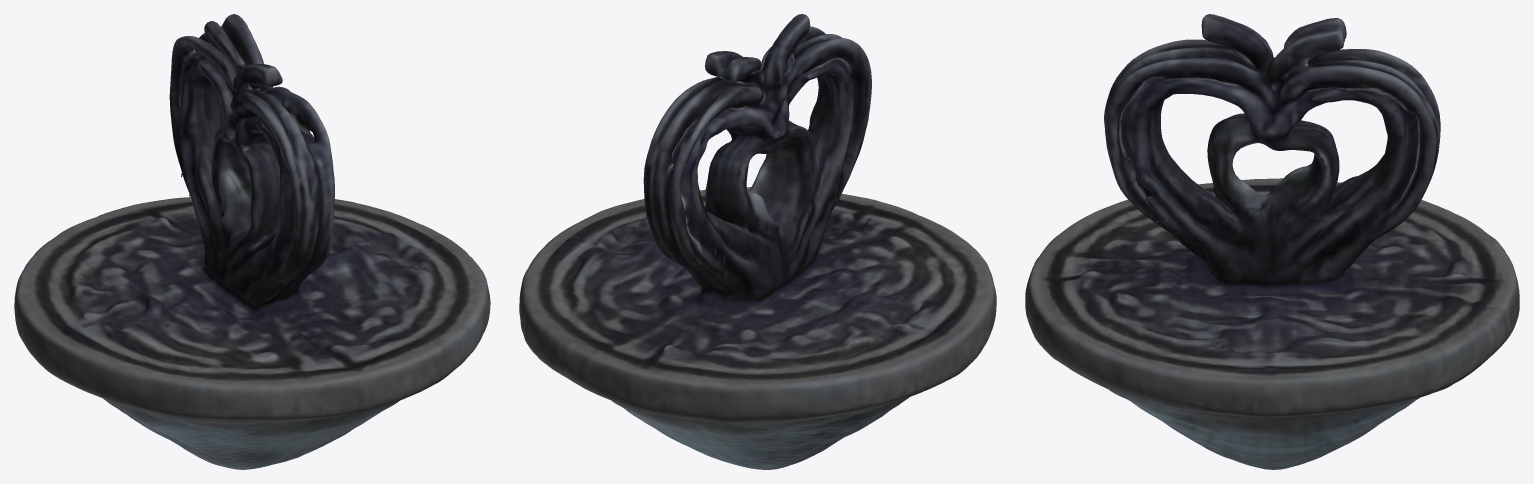
Rendered from heartofmaze.fbx.
3 views of the same model, side by side, from view 1: azimuth 30°, elevation 25°; view 2: azimuth 150°, elevation 25°; view 3: azimuth 270°, elevation 25° (orthographic). The views are drawn at different scales.
Parts seen in each view (by area): view 1: world; view 2: world; view 3: world.
Boxes of the visible parts, x1=… form: world: x1=14, y1=14, x2=490, y2=469; world: x1=519, y1=14, x2=996, y2=469; world: x1=1025, y1=14, x2=1519, y2=469.
Bounding box in the file's own units: 57.24 × 56.55 × 57.6.
1 material, 1 textured.
